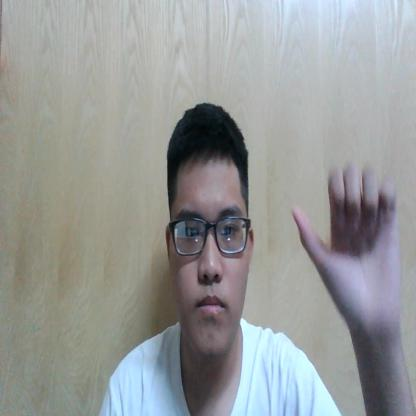right: (290, 157, 404, 322)
